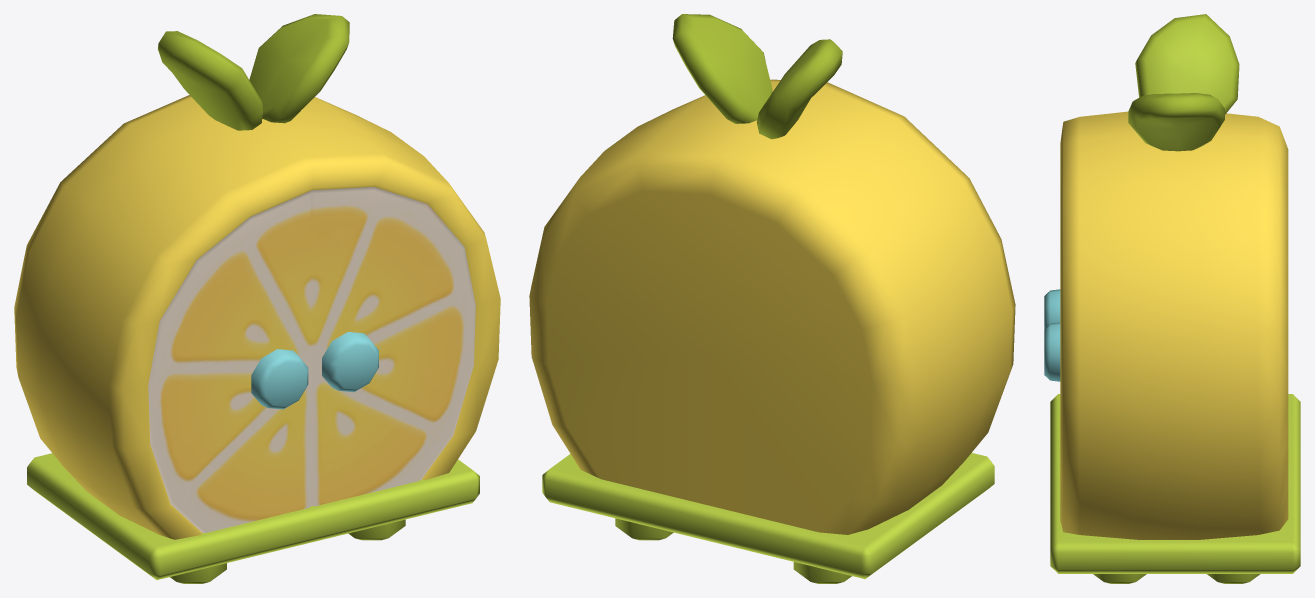
Rendered from Homestead_nm_6.fbx.
3 views of the same model, side by side, from view 1: azimuth 30°, elevation 25°; view 2: azimuth 150°, elevation 25°; view 3: azimuth 270°, elevation 25° (orthographic). The views are drawn at different scales.
Parts seen in each view (by area): view 1: Homestead_nm_6; view 2: Homestead_nm_6; view 3: Homestead_nm_6.
Part boxes in pixels (x1=…): Homestead_nm_6: x1=14, y1=14, x2=500, y2=583; Homestead_nm_6: x1=529, y1=14, x2=1015, y2=583; Homestead_nm_6: x1=1044, y1=14, x2=1300, y2=583.
Bounding box in the file's own units: 200 × 243 × 115.
